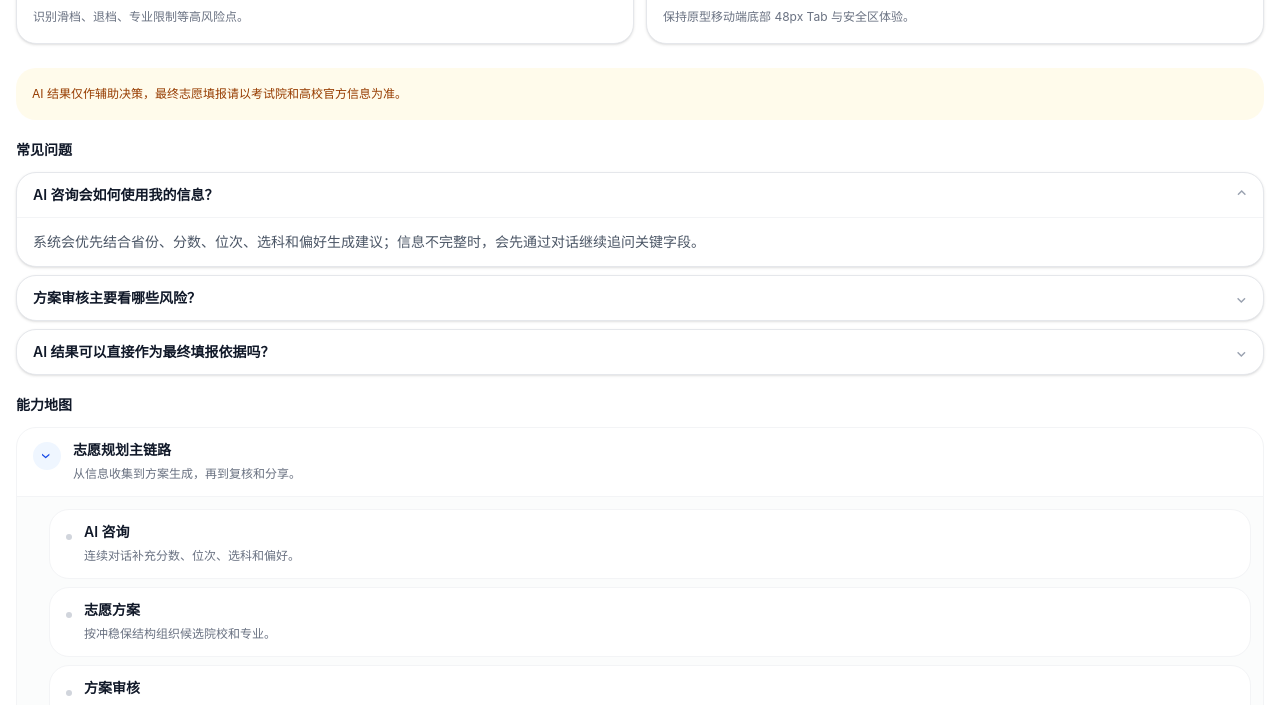
Test: AboutPage › renders FAQ accordion with official-source guidance
The image size is (1280, 705).
(page scrolled)
Expected: the heading "常见问题" is shown, [16,141,72,158]
Click the button "AI 结果可以直接作为最终填报依据吗？ ⌄" at (154, 352), box [17,330,1263,374]
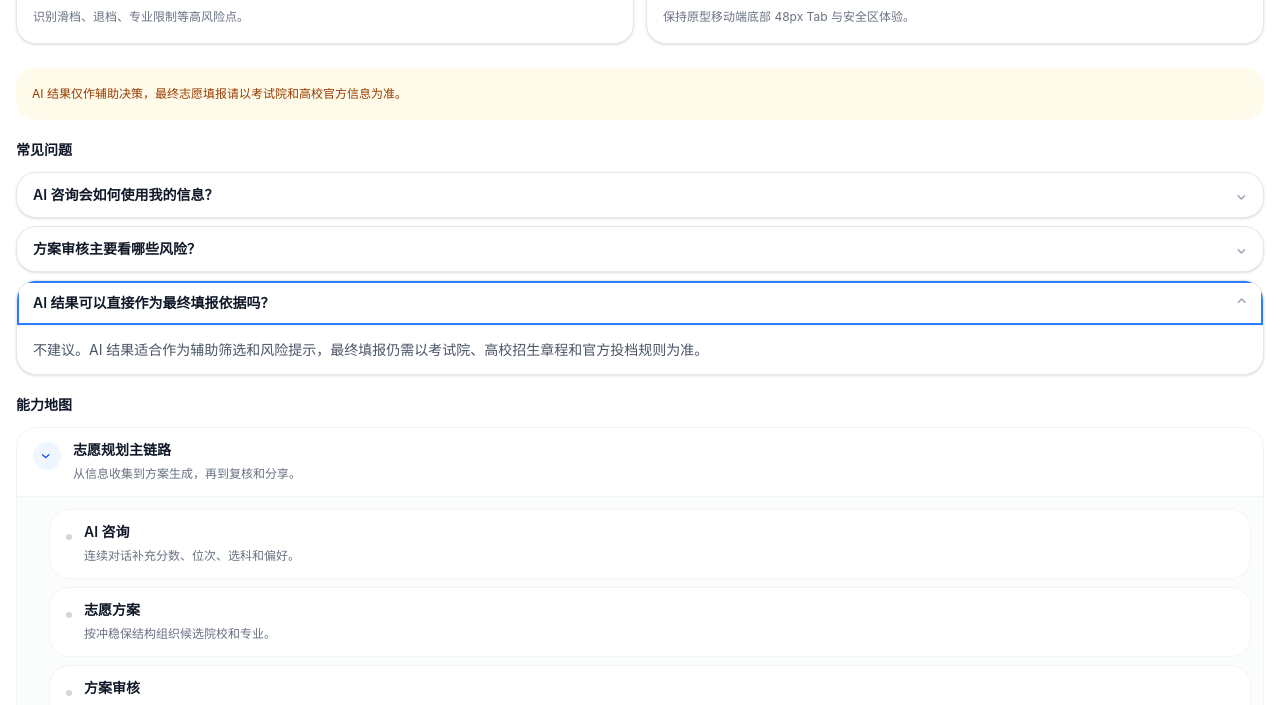
Expected: the text named "AI 结果可以直接作为最终填报依据吗？" shows "最终填报仍需以考试院", [33,341,708,358]
